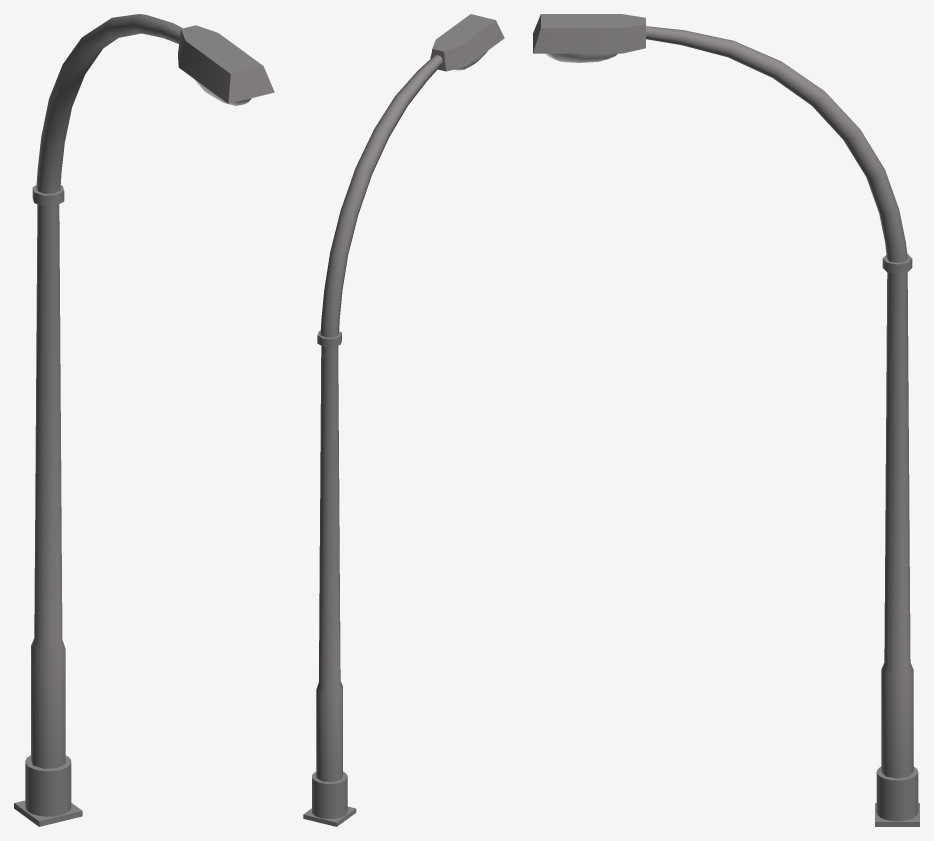
Rendered from streetlight.glb.
3 renders of one model, left to right at view 1: azimuth 30°, elevation 25°; view 2: azimuth 150°, elevation 25°; view 3: azimuth 270°, elevation 25°, orthographic. The views are drawn at different scales.
Visible parts, largest first — view 1: StreetLights; view 2: StreetLights; view 3: StreetLights.
Part boxes in pixels (<box>): StreetLights: <box>14,14,274,826</box>; StreetLights: <box>303,14,504,826</box>; StreetLights: <box>533,14,919,826</box>.
Bounding box in the file's own units: 0.3641 × 6.64 × 2.93.
Materials: 2 (1 with a texture image).
